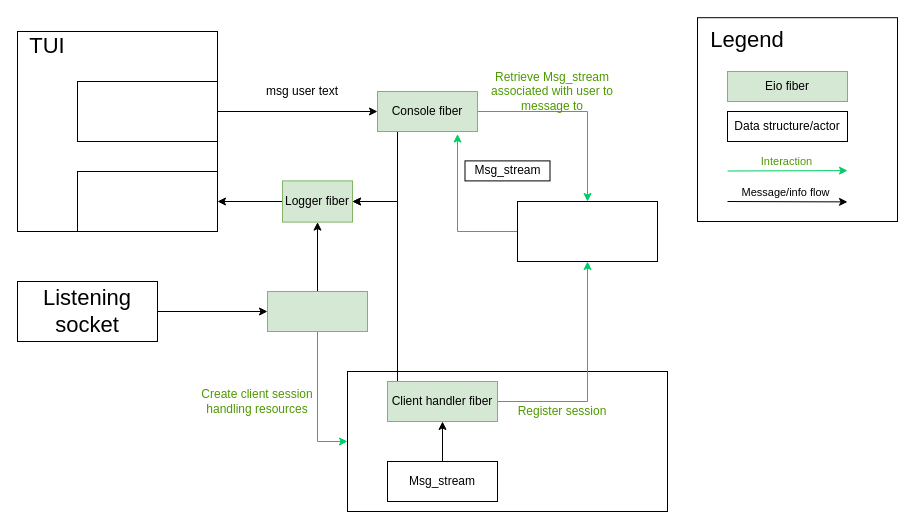
The diagram is 915 pixels wide and 529 high, and some of its shapes have lost their labels. The box of each missing label's shape, as (x1, y1, x2, y2) in pixels:
Client store: (516, 200, 658, 262)
Console: (76, 80, 218, 142)
Dispatcher fiber: (266, 290, 368, 332)
Log pane: (76, 170, 218, 232)
